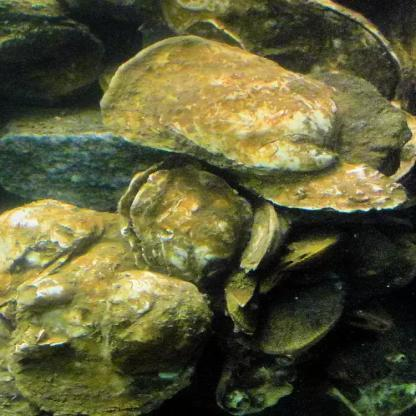3: (119, 159, 259, 284), (304, 0, 406, 102), (260, 235, 338, 292), (392, 109, 416, 185), (224, 291, 261, 337), (346, 304, 394, 330)
Oyster-Closed: (245, 165, 408, 216), (258, 263, 346, 354), (237, 199, 289, 273), (97, 62, 124, 91)
Oyster-Open: (2, 210, 197, 416), (103, 36, 340, 177), (300, 71, 412, 177), (98, 273, 210, 372), (0, 204, 103, 304), (216, 331, 312, 414), (343, 228, 416, 305)
